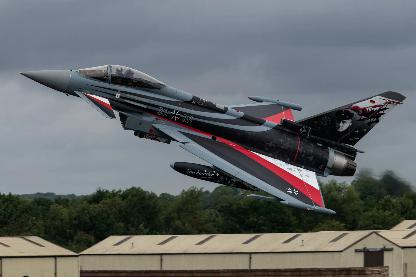E2: (18, 64, 406, 213)
